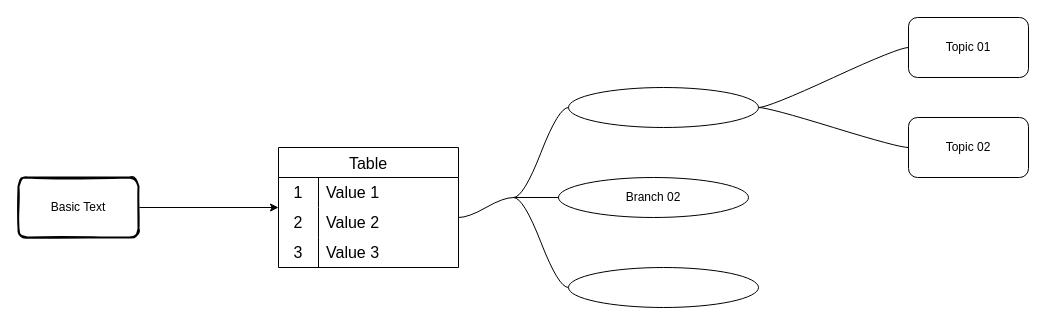
This 1046x325 diagram has some shape labels left out. Each missing label, with the centre of its shape:
"Branch 01" belongs at (663,107).
"Branch 03" belongs at (663,287).
